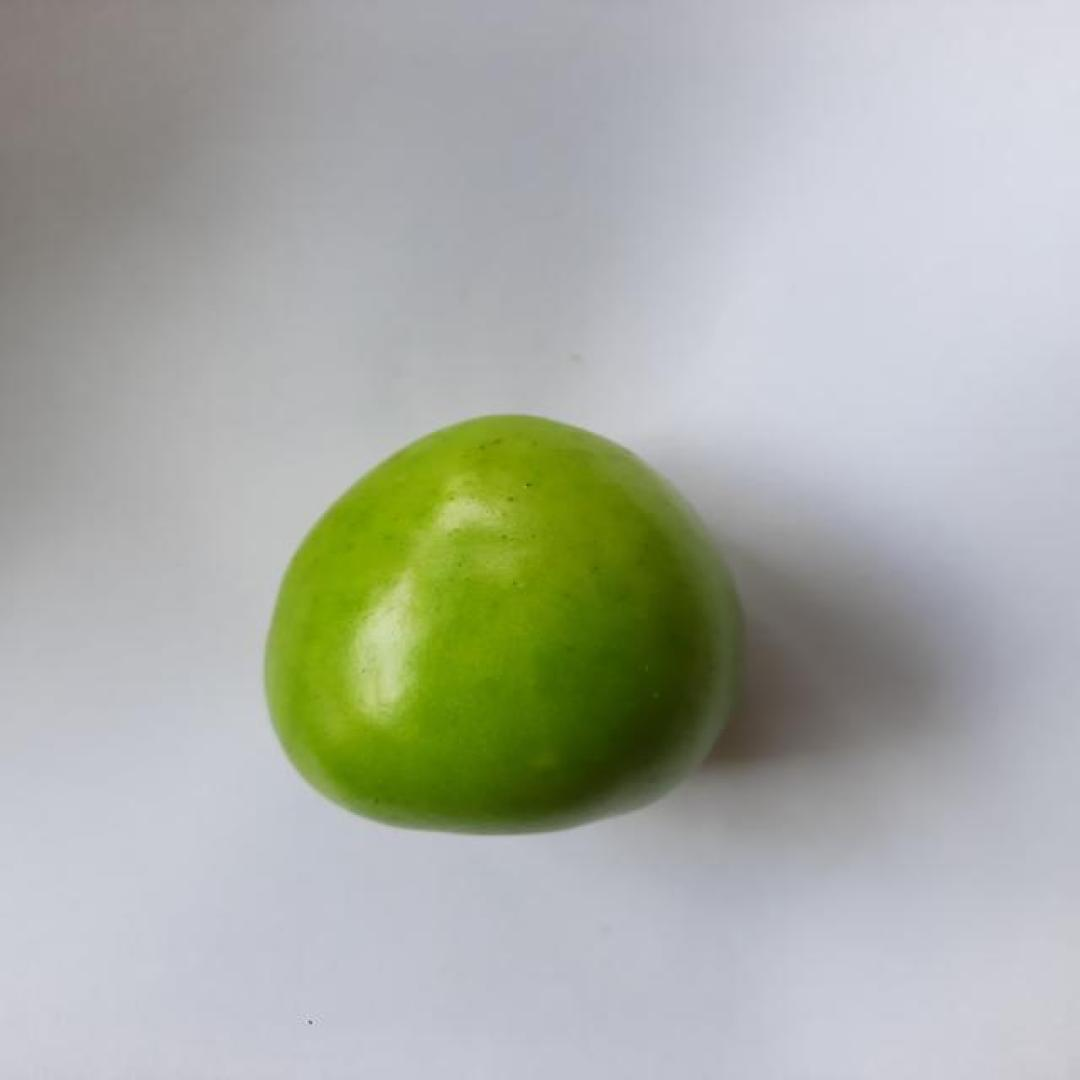mentah: (260, 410, 749, 840)
